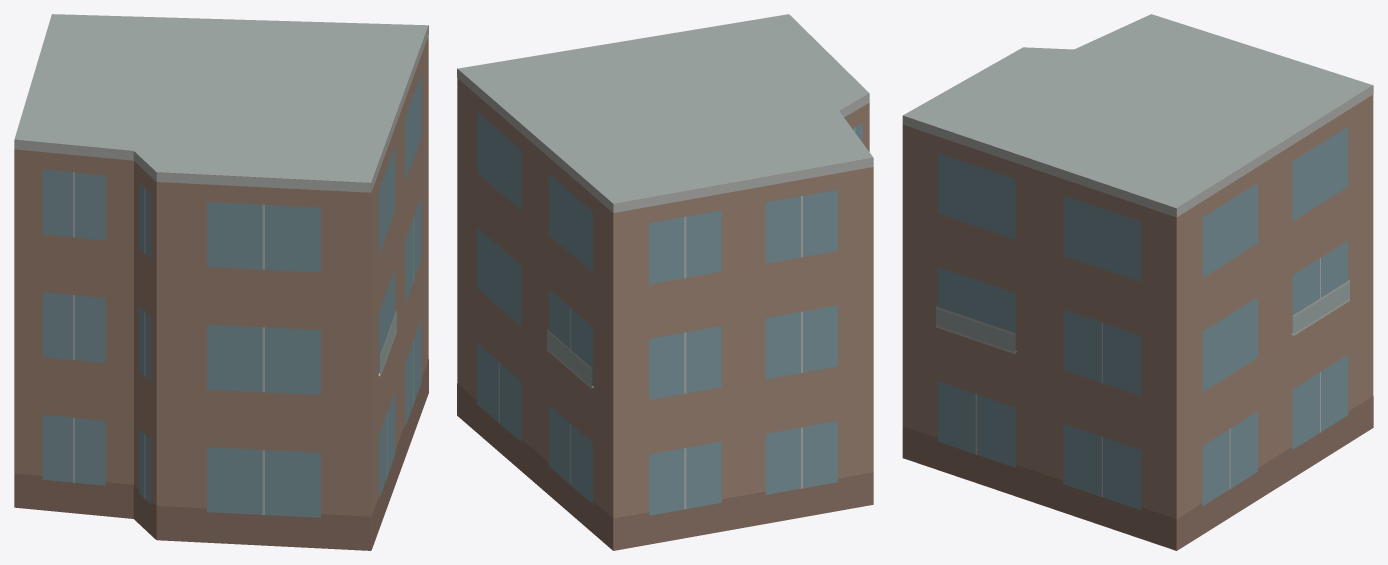
The model's file is survey-upis-32662311.glb.
3 views of the same model, side by side, from view 1: azimuth 30°, elevation 25°; view 2: azimuth 150°, elevation 25°; view 3: azimuth 270°, elevation 25° (orthographic). The views are drawn at different scales.
Parts seen in each view (by area): view 1: survey-upis-32662311.tmp; view 2: survey-upis-32662311.tmp; view 3: survey-upis-32662311.tmp.
Boxes of the visible parts, bbox=[...] form: survey-upis-32662311.tmp: bbox=[14, 14, 428, 550]; survey-upis-32662311.tmp: bbox=[457, 14, 873, 550]; survey-upis-32662311.tmp: bbox=[902, 14, 1373, 550].
Bounding box in the file's own units: 11.14 × 9.15 × 11.4.
